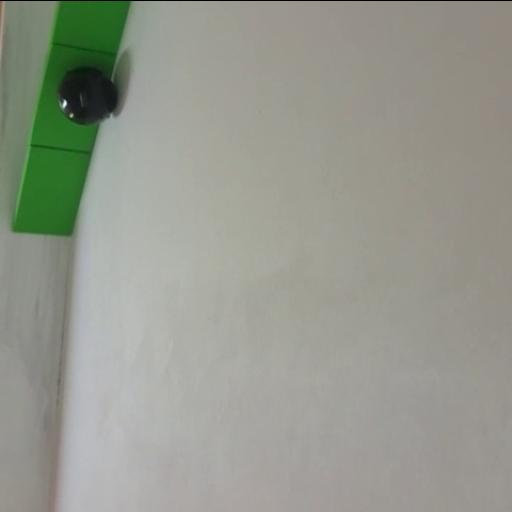dead: (56, 64, 118, 124)
